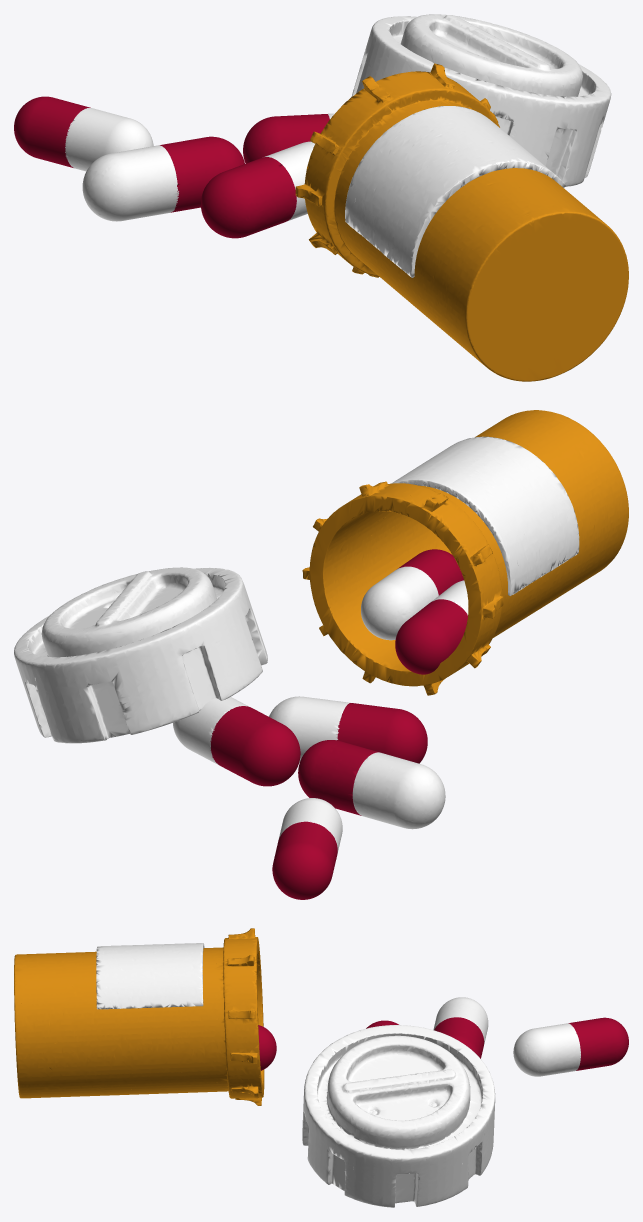
The model's file is pills.glb.
3 views of the same model, one above another, from view 1: azimuth 30°, elevation 25°; view 2: azimuth 150°, elevation 25°; view 3: azimuth 270°, elevation 25° (orthographic). The views are drawn at different scales.
Visible parts, largest first — view 1: BolwPartOne, BolwLid, LabelBolw, Capsule_2_White, Capsule_4_Red, Capsule_1_White, Capsule_2_Red, Capsule_1_Red, Capsule_3_Red, Capsule_4_White; view 2: BolwLid, BolwPartOne, LabelBolw, BolwPartTwo, Capsule_2_White, Capsule_3_Red, Capsule_1_Red, Capsule_4_Red, Capsule_5_Red, Capsule_6_White, Capsule_2_Red, Capsule_4_White (+3 smaller); view 3: BolwLid, BolwPartOne, BolwPartTwo, LabelBolw, Capsule_1_White, Capsule_1_Red, Capsule_2_White, Capsule_2_Red, Capsule_5_Red.
Part boxes in pixels (box(x1,y1,x2,y2)): BolwPartOne: box(295, 63, 628, 381); BolwLid: box(351, 14, 611, 186); LabelBolw: box(345, 106, 565, 277); Capsule_2_White: box(82, 145, 178, 221); Capsule_4_Red: box(201, 157, 296, 238); Capsule_1_White: box(65, 108, 153, 171); Capsule_2_Red: box(160, 136, 244, 212); Capsule_1_Red: box(14, 96, 90, 167); Capsule_3_Red: box(243, 114, 329, 163); Capsule_4_White: box(265, 141, 314, 221); BolwLid: box(14, 567, 267, 743); BolwPartOne: box(311, 410, 628, 695); LabelBolw: box(391, 436, 579, 595); BolwPartTwo: box(302, 511, 420, 663); Capsule_2_White: box(352, 752, 445, 829); Capsule_3_Red: box(210, 706, 300, 786); Capsule_1_Red: box(272, 821, 337, 899); Capsule_4_Red: box(337, 703, 427, 763); Capsule_5_Red: box(395, 599, 467, 674); Capsule_6_White: box(361, 566, 438, 640); Capsule_2_Red: box(298, 740, 378, 815); Capsule_4_White: box(269, 696, 350, 762); BolwLid: box(302, 1025, 495, 1207); BolwPartOne: box(14, 928, 264, 1105); BolwPartTwo: box(111, 962, 262, 1099); LabelBolw: box(96, 943, 204, 1009); Capsule_1_White: box(513, 1023, 580, 1076); Capsule_1_Red: box(568, 1017, 628, 1070); Capsule_2_White: box(433, 997, 488, 1044); Capsule_2_Red: box(434, 1017, 484, 1058); Capsule_5_Red: box(258, 1025, 276, 1070).
Bounding box in the file's own units: 1.25 × 0.5715 × 1.85.
